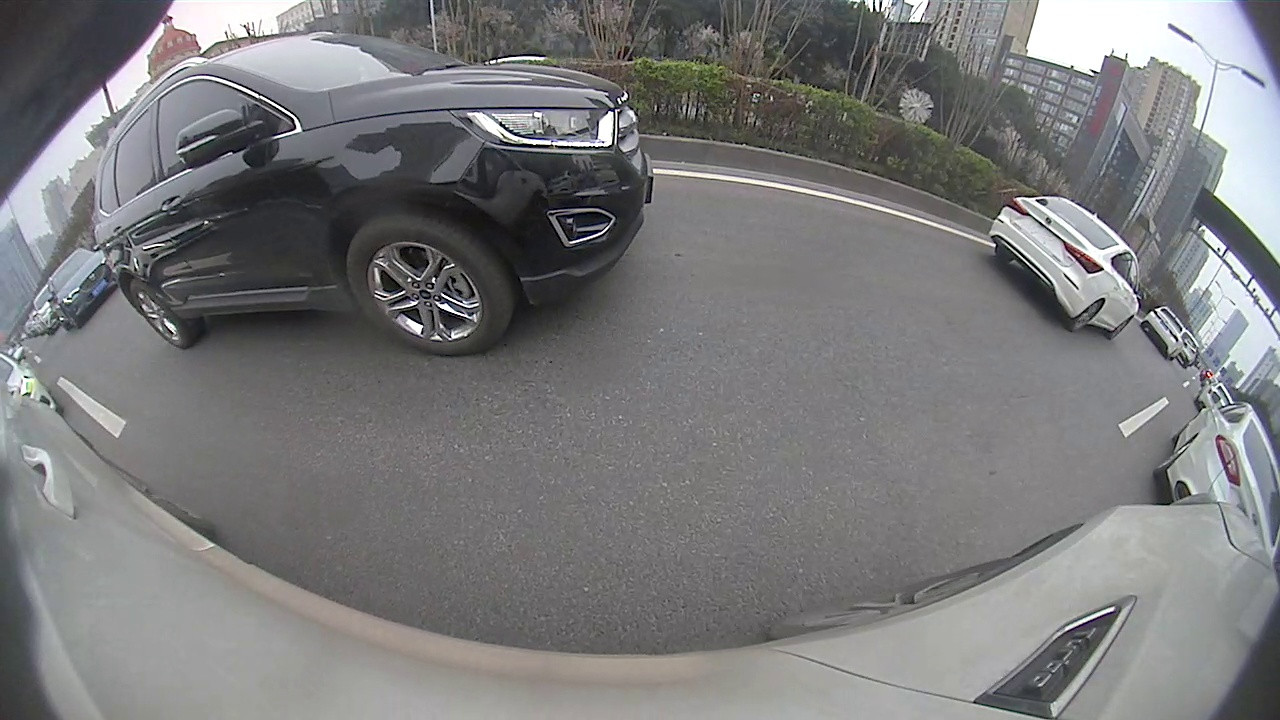car: (93, 32, 655, 356), (988, 195, 1150, 342), (1153, 392, 1276, 568), (43, 250, 117, 335), (1138, 308, 1189, 361)
front: (346, 212, 512, 354)
rear: (123, 279, 186, 350), (1068, 300, 1104, 331)
